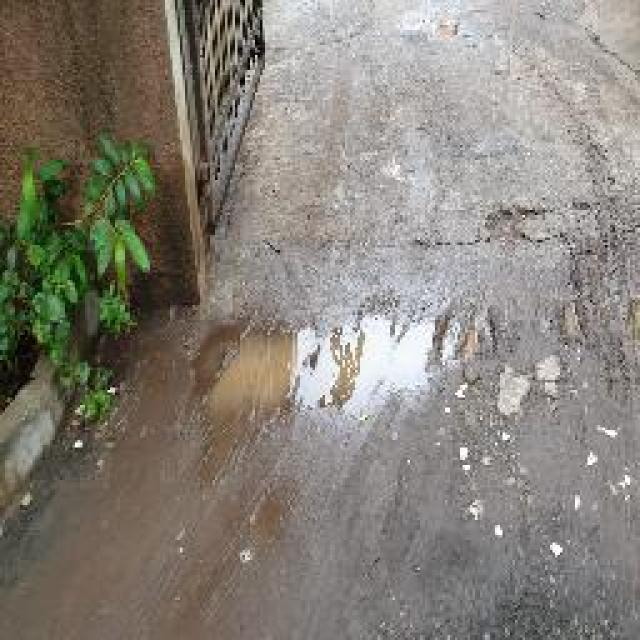stagnation: (208, 295, 522, 457)
